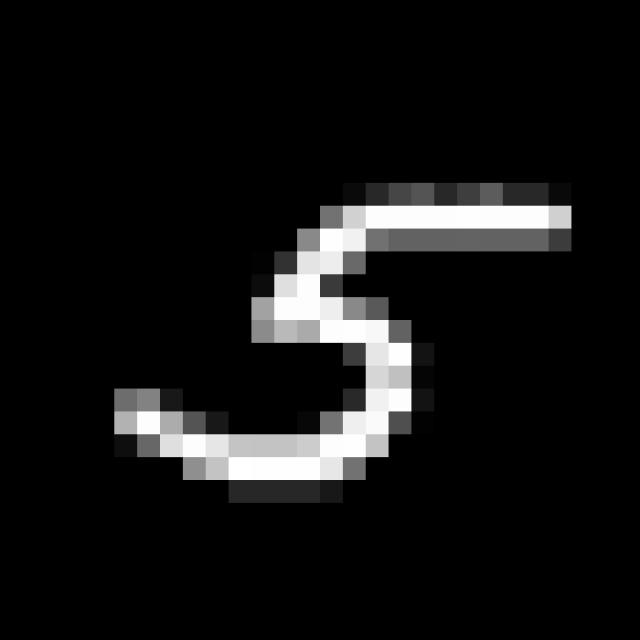five -5-: (105, 181, 582, 485)
